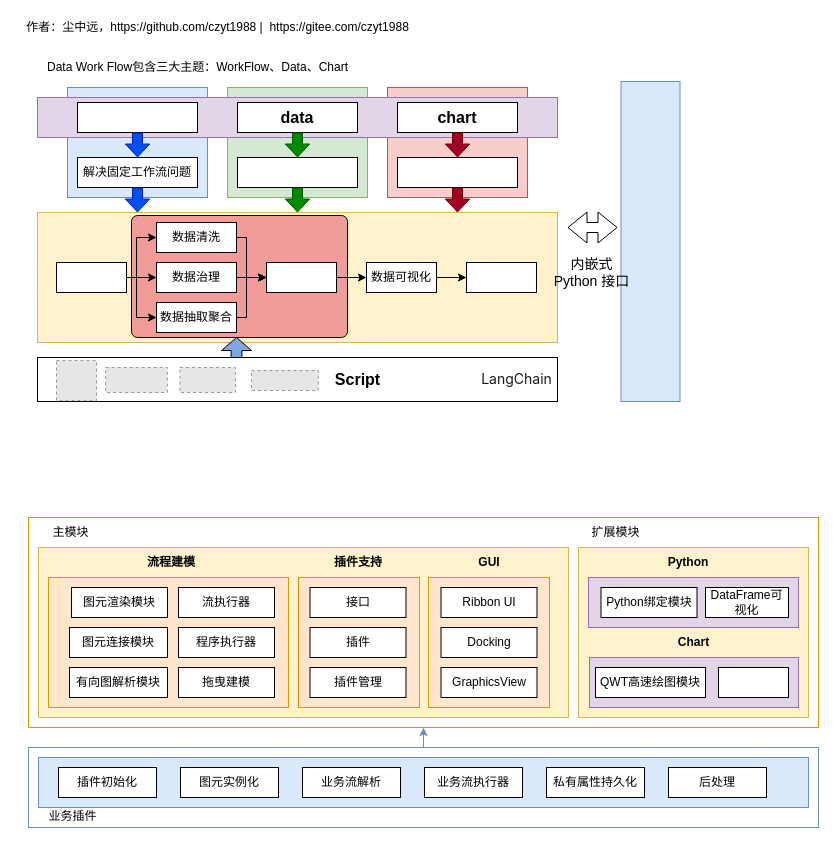
Image size: 836x848. Some labels were removed from this diagram. Grey dashed boxes stand in for pictures. The box of each missing label's shape, as (x1, y1, x2, y2) in pixels:
AI Agent: (620, 80, 680, 402)
work flow: (76, 102, 198, 132)
实现数据可视化: (396, 156, 518, 188)
实现数据的治理: (236, 156, 358, 188)
导入数据: (56, 262, 126, 292)
数据处理: (266, 262, 336, 292)
绘图设置: (718, 666, 788, 698)
输出结果: (466, 262, 536, 292)
